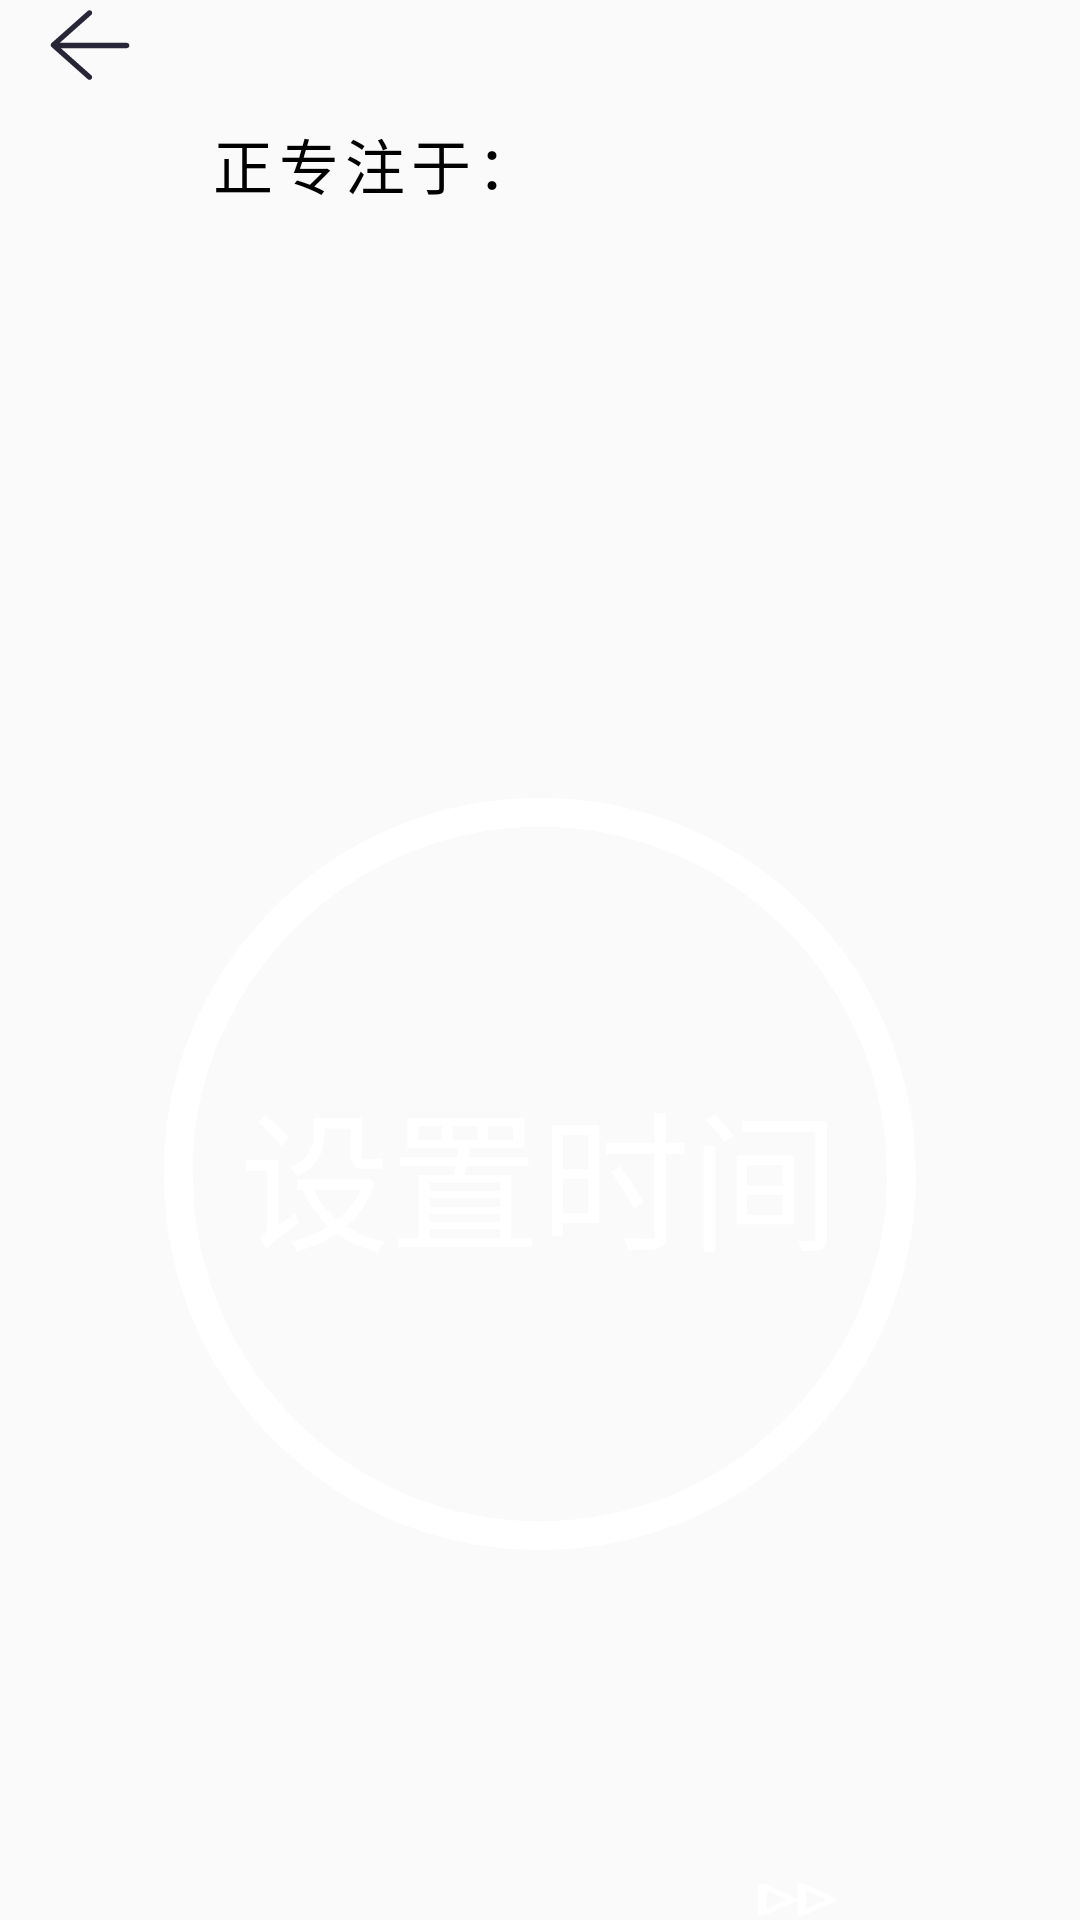

Icons on this 1080 x 1920 Android screen, each with its box as [left=x1, top=y1, right=x2, bottom=y2]:
back: [left=50, top=10, right=130, bottom=80]
